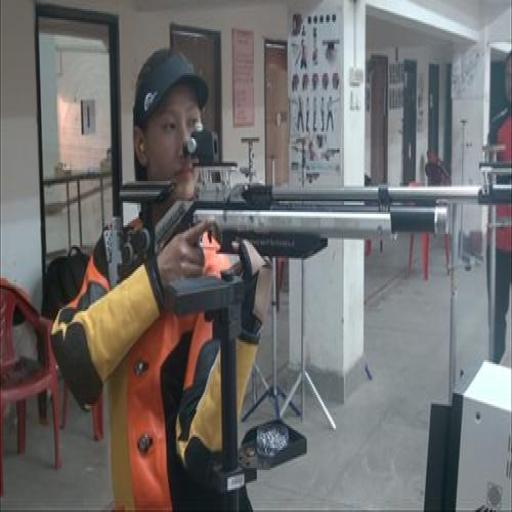shooting: (49, 46, 276, 510)
